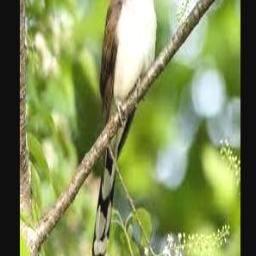Cuckoo: (92, 0, 167, 256)
